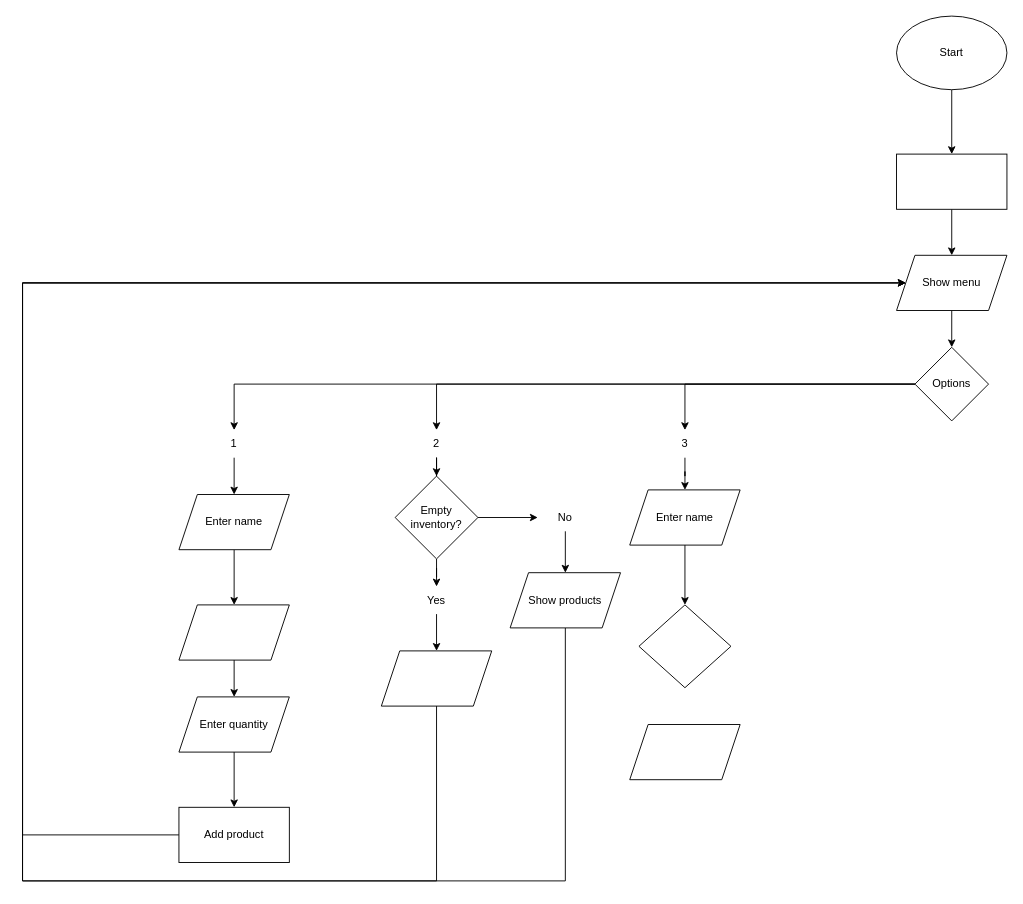
Some shapes in this 1023 by 904 pixel diagram are drawn without their labels. Here are the shapes that lost their labels. From the top down, the centre of each, then its label:
(x=951, y=181): Start Inventory
(x=233, y=632): Enter price
(x=684, y=646): Product found?
(x=436, y=678): Show "Empty"
